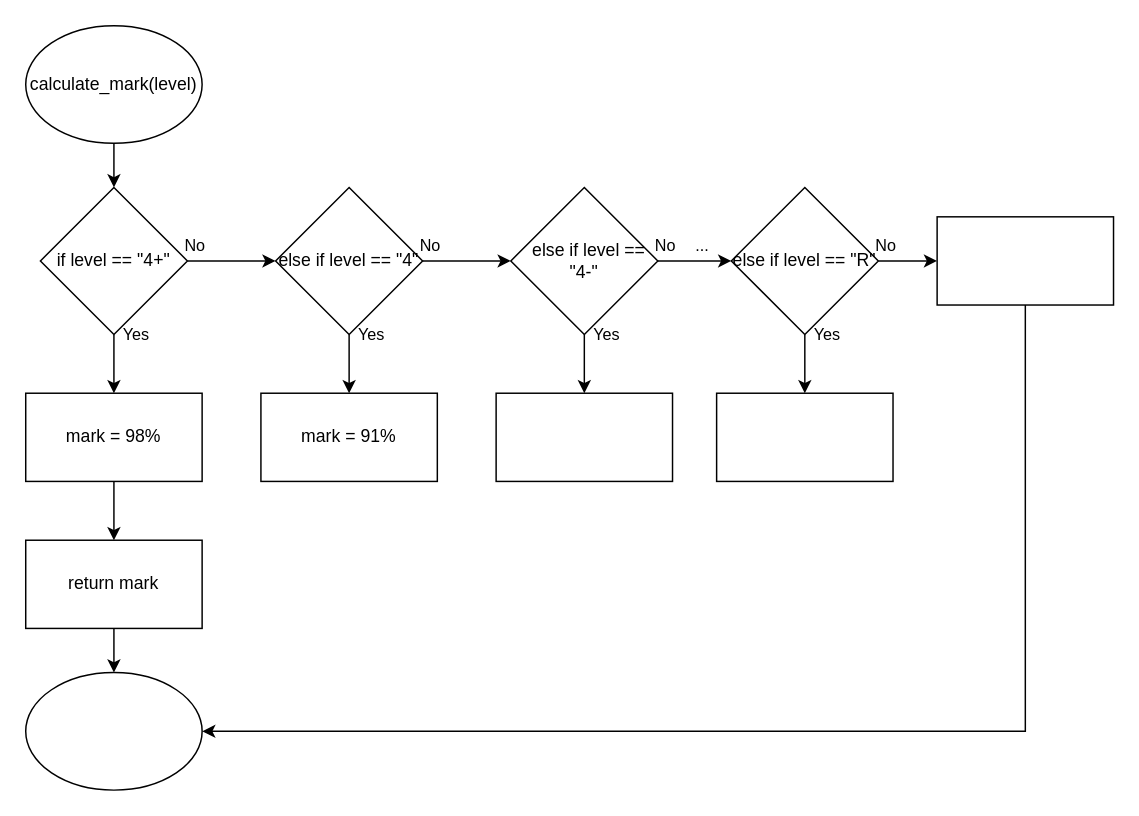
The diagram is 1139 pixels wide and 816 high, and some of its shapes have lost their labels. Each missing label, with the centre of its shape:
"mark = -1" goes at (1025,260).
"mark = 30%" goes at (804,436).
"mark = 83%" goes at (584,436).
"Stop" goes at (113,730).
